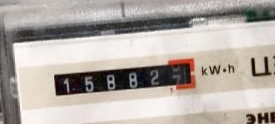1: (60, 74, 71, 93)
2: (148, 67, 160, 85)
5: (82, 74, 94, 91)
7: (170, 72, 182, 84)
8: (103, 71, 116, 89), (126, 69, 138, 88)
screen: (44, 53, 202, 104)
